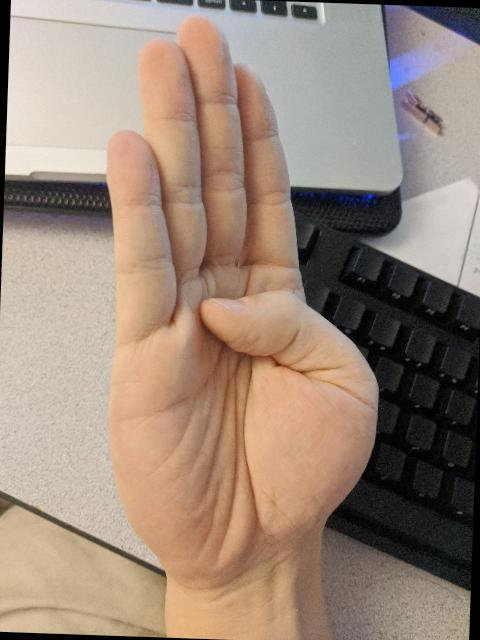B: (73, 0, 408, 609)
